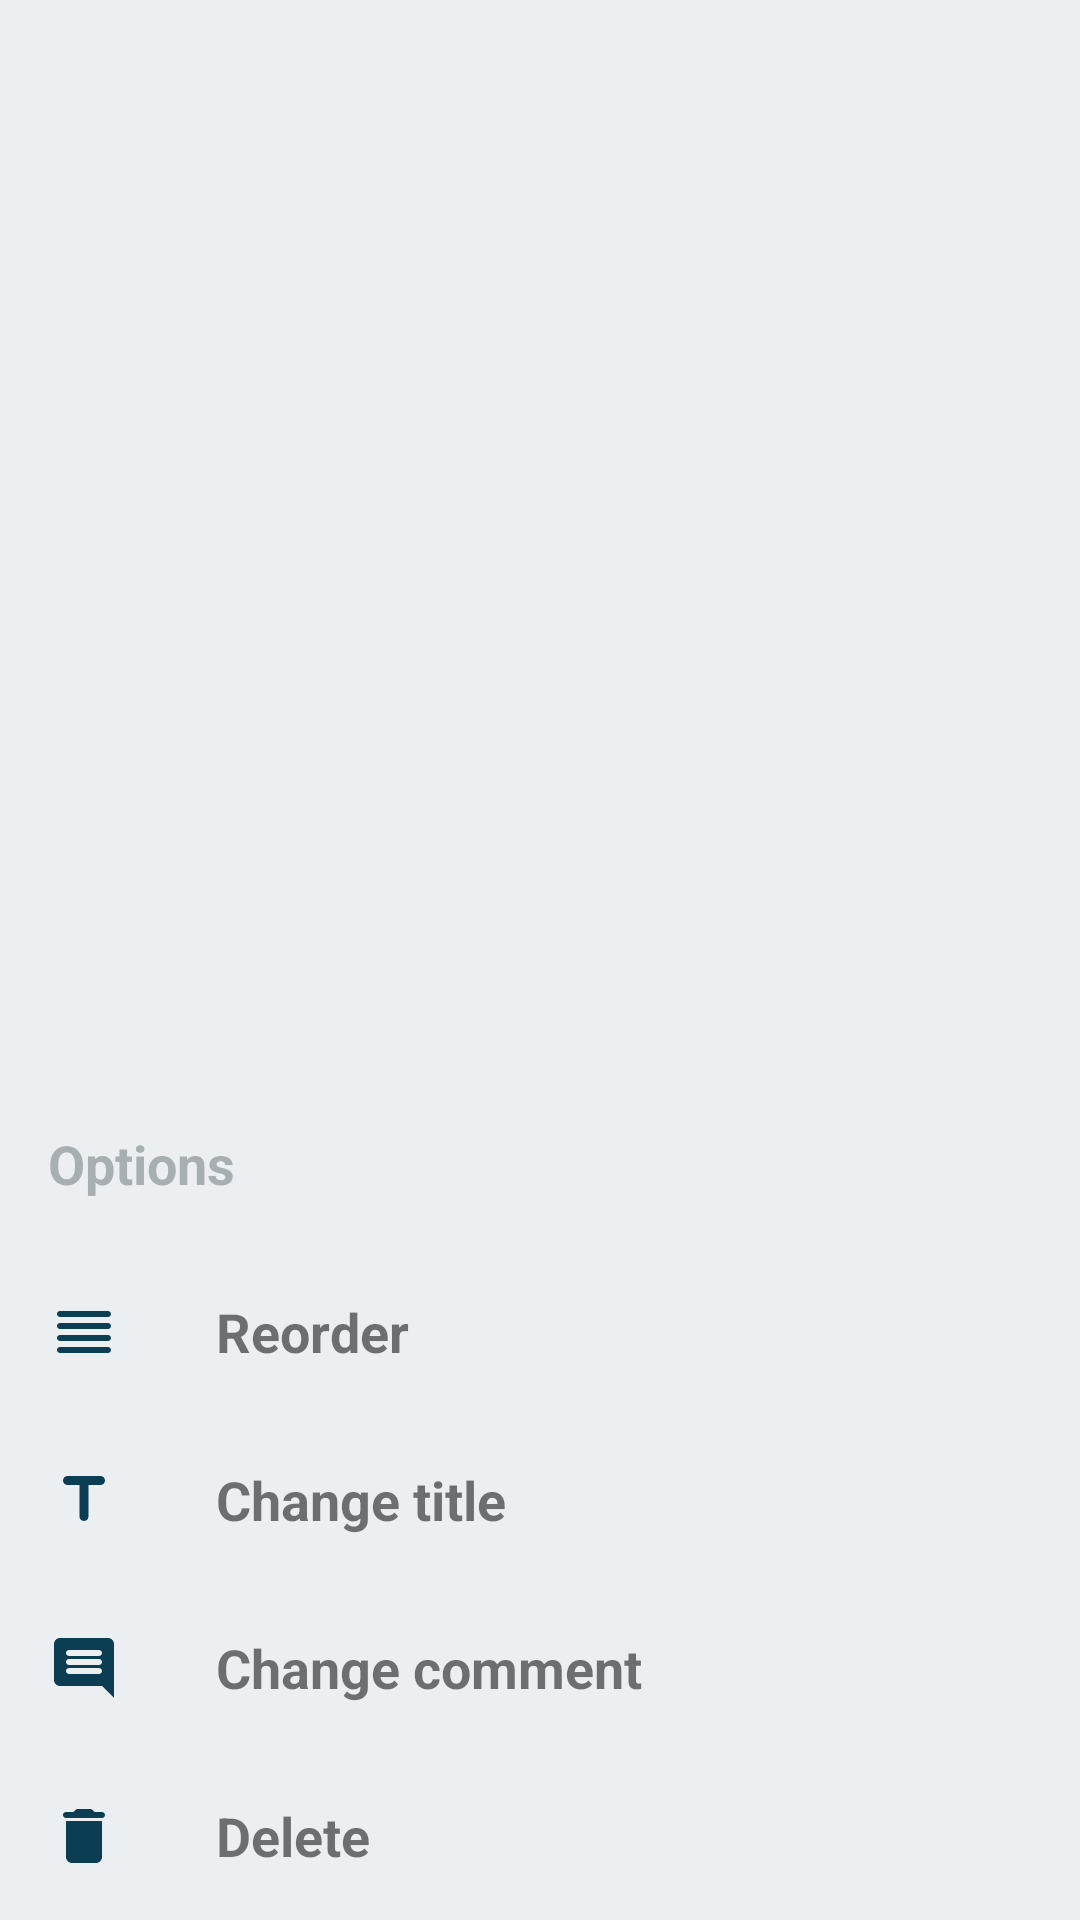

Icon bounding boxes for this 1080w x 1920h phone screenshot, format [x1=x1, y1=y1, x2=x2, y2=y2]:
edit comment: [x1=54, y1=1638, x2=114, y2=1698]
